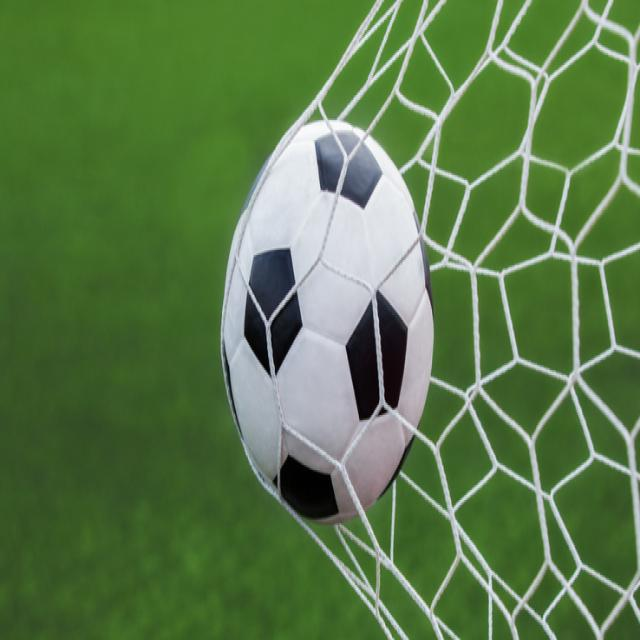football: (212, 83, 445, 555)
